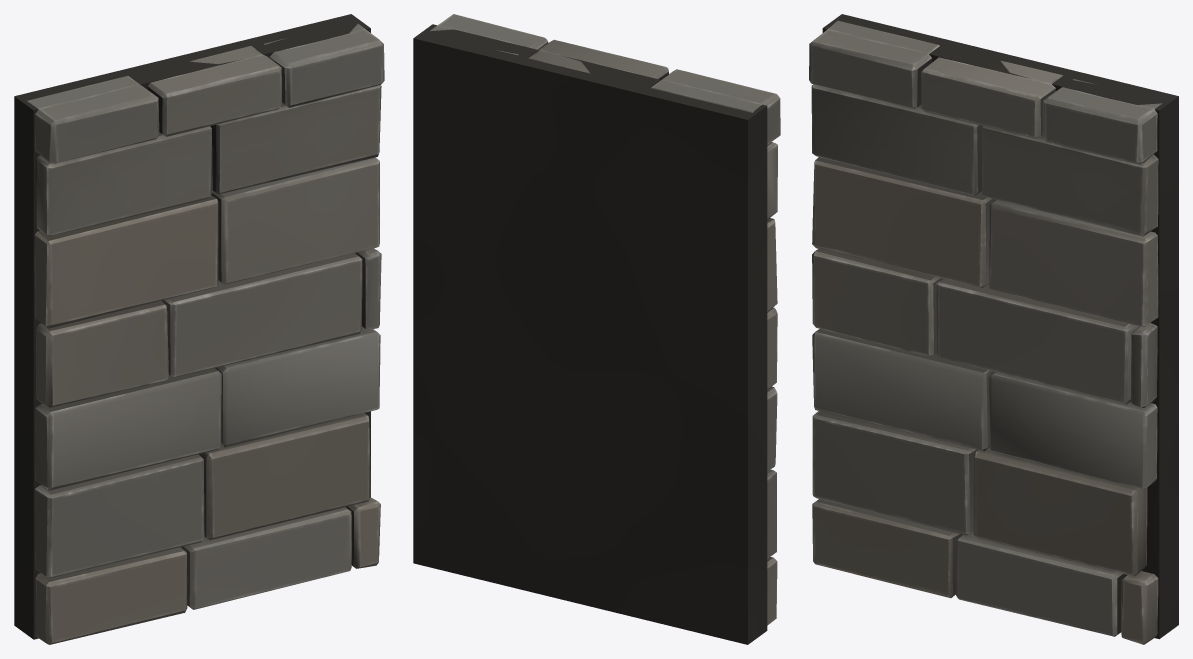
The model's file is gallows_wall_outer.glb.
The picture shows the model from 3 angles, left to right: view 1: azimuth 30°, elevation 25°; view 2: azimuth 150°, elevation 25°; view 3: azimuth 330°, elevation 25°; orthographic projection.
Parts seen in each view (by area): view 1: gallows_wall_outer; view 2: gallows_wall_outer; view 3: gallows_wall_outer.
Part boxes in pixels (x1=…): gallows_wall_outer: x1=14, y1=14, x2=384, y2=644; gallows_wall_outer: x1=413, y1=14, x2=780, y2=644; gallows_wall_outer: x1=809, y1=14, x2=1178, y2=644.
Size of the model in its own units: 4 by 6.01 by 0.7591.
1 material, 1 textured.
